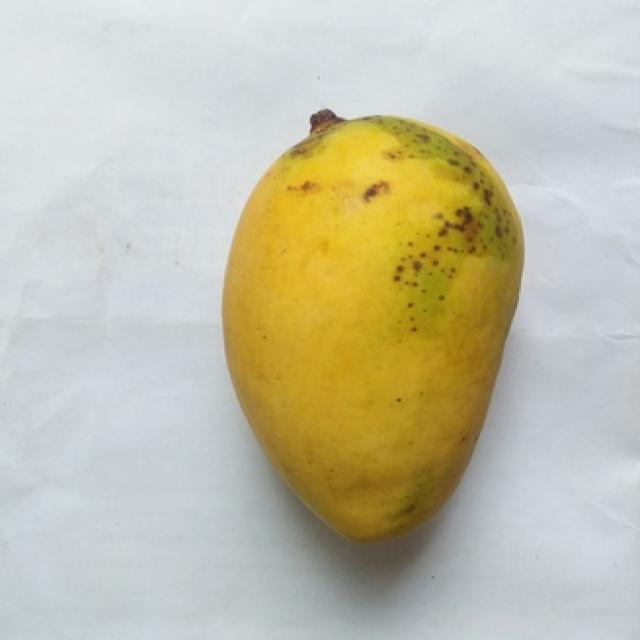Mango: (222, 112, 521, 539)
